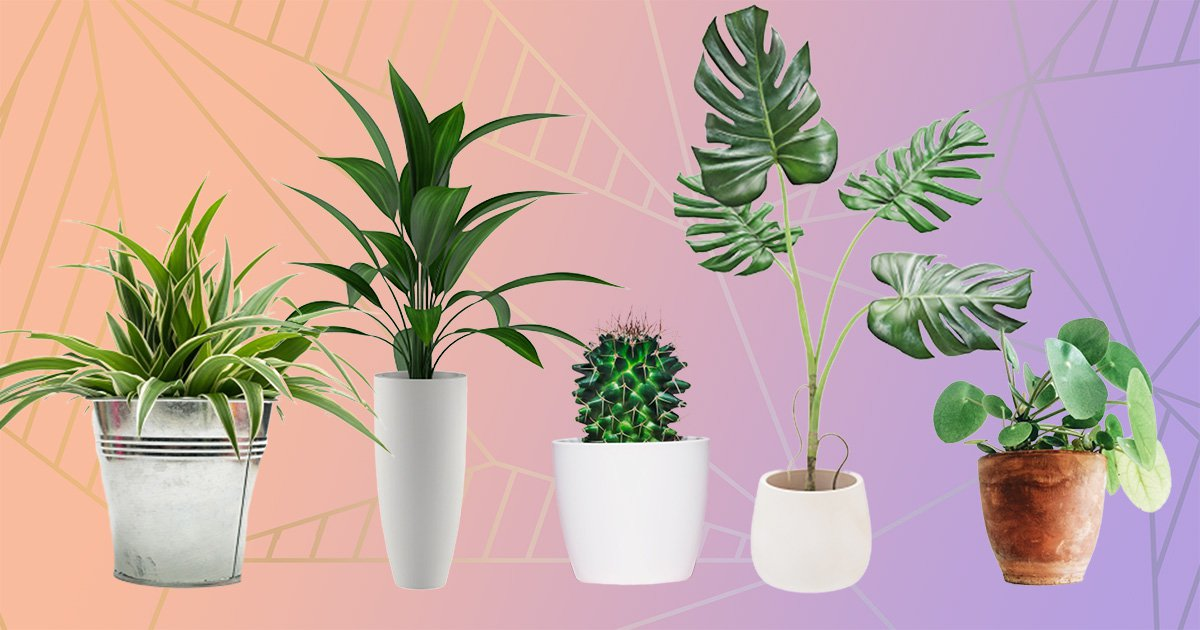plant: (703, 14, 952, 604), (50, 203, 294, 594), (338, 83, 514, 597), (963, 329, 1168, 580), (553, 327, 715, 530)
